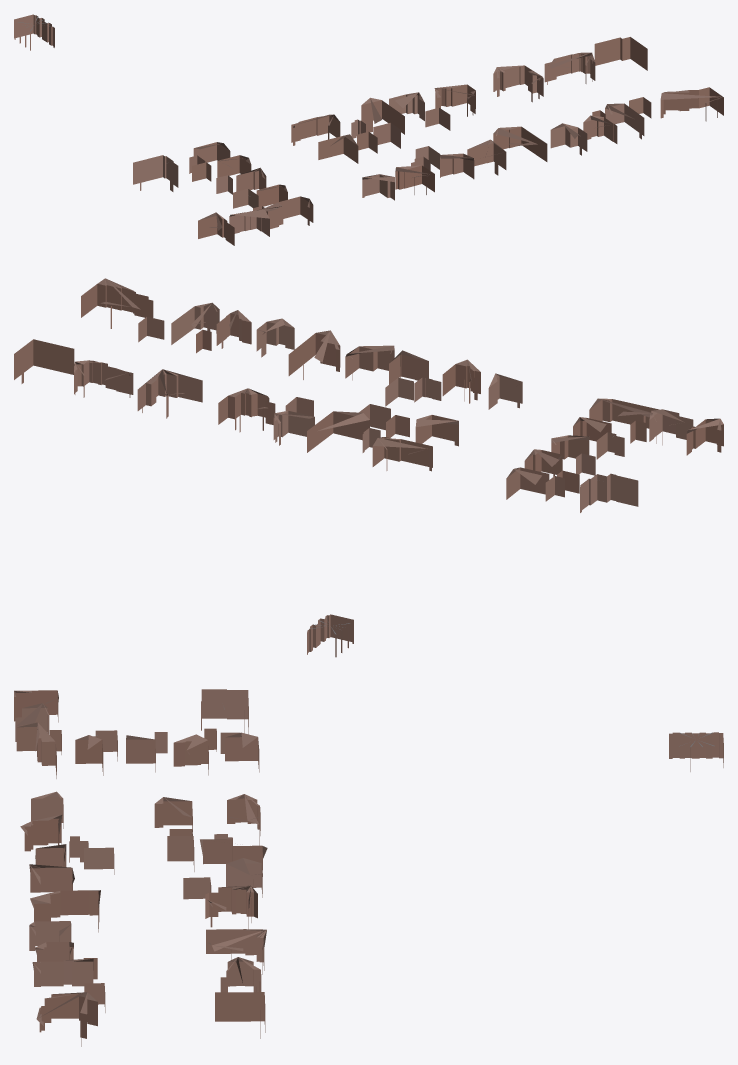
File: c_1645_17822_buildings_residential.glb
3 views of the same model, one above another, from view 1: azimuth 30°, elevation 25°; view 2: azimuth 150°, elevation 25°; view 3: azimuth 270°, elevation 25° (orthographic). The views are drawn at different scales.
Parts seen in each view (by area): view 1: geometry_0; view 2: geometry_0; view 3: geometry_0.
Boxes of the visible parts, x1,y1,x2,y2 form: geometry_0: [14, 14, 723, 245]; geometry_0: [14, 278, 723, 657]; geometry_0: [14, 689, 723, 1046].
Bounding box in the file's own units: 271 × 11.08 × 242.
